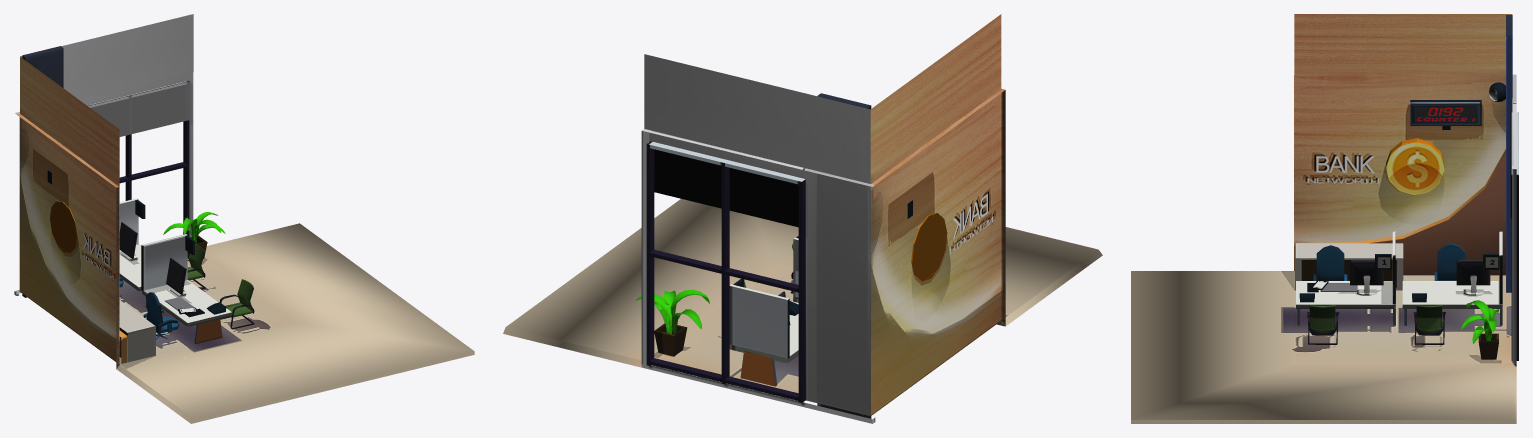
File: Tx_Interior_Work_Bank_20170713.fbx
The picture shows the model from 3 angles, left to right: view 1: azimuth 30°, elevation 25°; view 2: azimuth 150°, elevation 25°; view 3: azimuth 270°, elevation 25°; orthographic projection. The views are drawn at different scales.
Parts seen in each view (by area): view 1: Expand, polySurface1; view 2: polySurface1, Expand; view 3: polySurface1, Expand.
Part boxes in pixels (x1,y1,x2,y2): Expand: [20, 14, 474, 423]; polySurface1: [14, 46, 292, 368]; polySurface1: [635, 88, 1005, 423]; Expand: [503, 14, 1102, 367]; polySurface1: [1294, 15, 1518, 366]; Expand: [1131, 14, 1516, 423].
Size of the model in its own units: 36.41 by 29.52 by 39.53.
